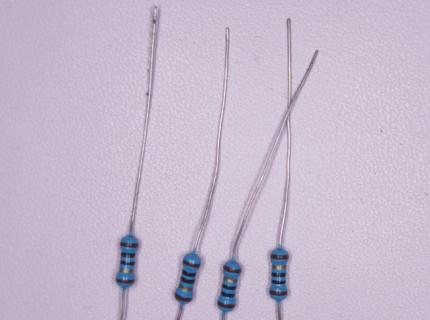Black band: (180, 276, 196, 285), (182, 269, 197, 278), (222, 283, 237, 291), (221, 291, 236, 298), (121, 252, 135, 259), (120, 260, 135, 266), (271, 272, 286, 277), (272, 279, 286, 284)
Brown band: (174, 292, 193, 304), (222, 265, 243, 275), (182, 258, 201, 269), (217, 300, 235, 310), (120, 241, 139, 248), (269, 289, 288, 296), (116, 278, 135, 284), (270, 254, 289, 260)
Gold band: (178, 283, 193, 292), (223, 276, 239, 284), (272, 264, 287, 270), (119, 268, 134, 273)
